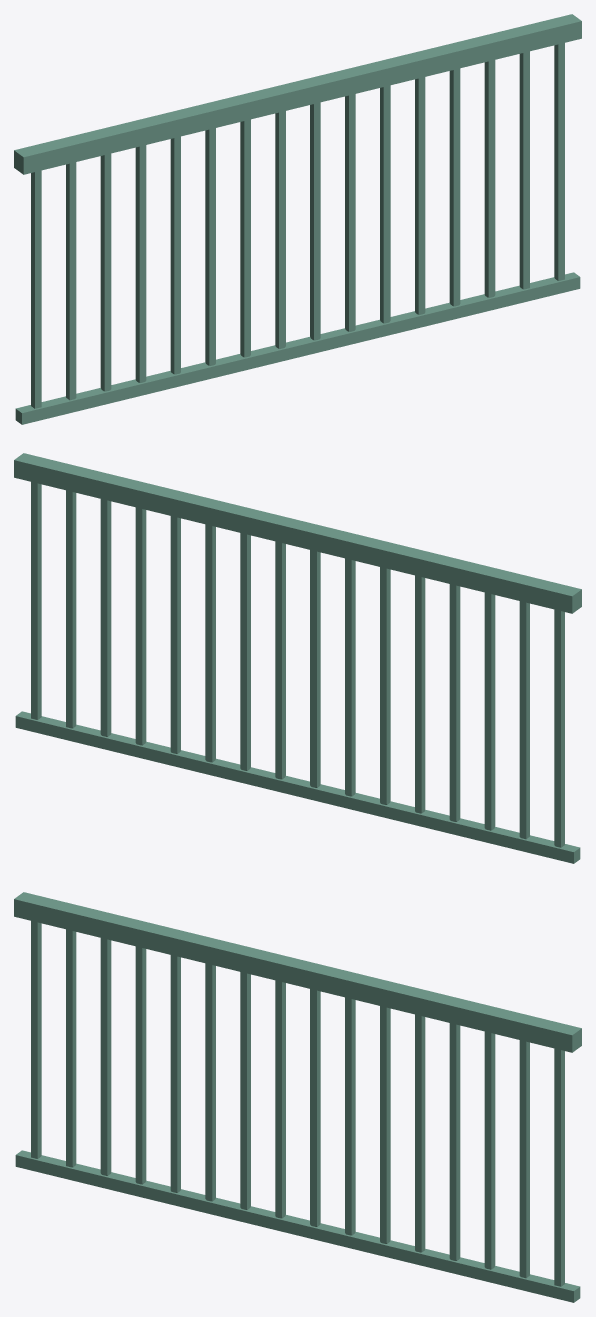
The model's file is gallery_rail.glb.
The picture shows the model from 3 angles, top to bottom: view 1: azimuth 30°, elevation 25°; view 2: azimuth 150°, elevation 25°; view 3: azimuth 330°, elevation 25°; orthographic projection.
Visible parts, largest first — view 1: gallery_rail_post; view 2: gallery_rail_post; view 3: gallery_rail_post.
Boxes of the visible parts, <box> form: gallery_rail_post: <box>14,14,581,424</box>; gallery_rail_post: <box>14,453,581,863</box>; gallery_rail_post: <box>14,892,581,1302</box>.
Size of the model in its own units: 2 by 0.92 by 0.06.
